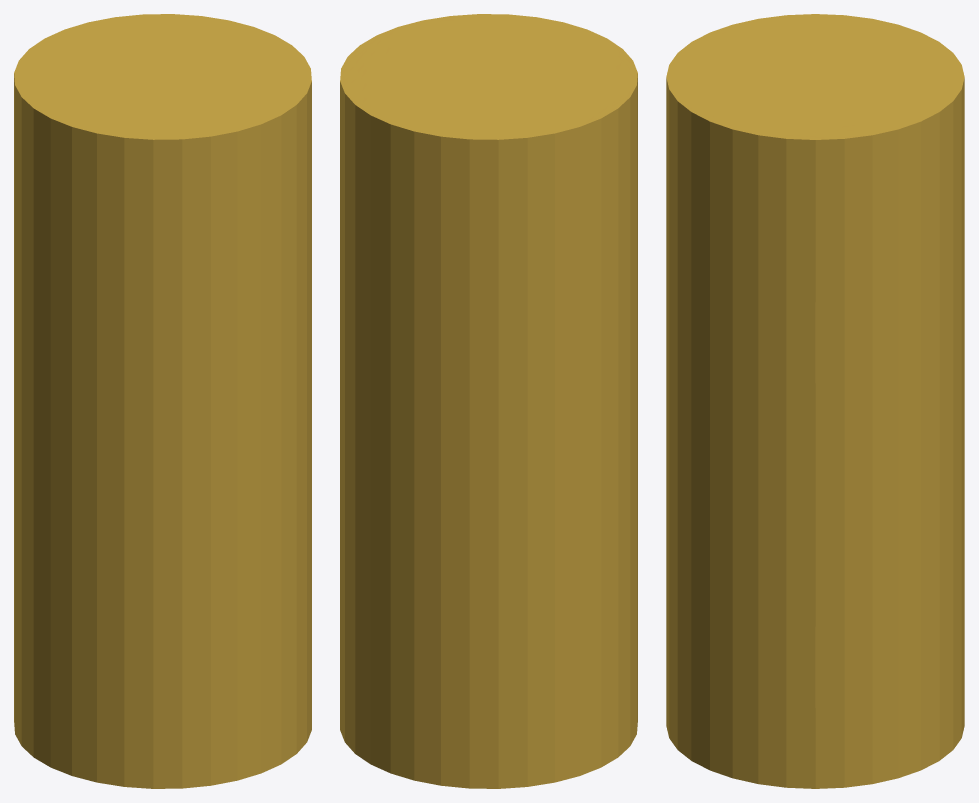
File: yellow_cylinder_010_024_s8.dae
The picture shows the model from 3 angles, left to right: view 1: azimuth 30°, elevation 25°; view 2: azimuth 150°, elevation 25°; view 3: azimuth 270°, elevation 25°; orthographic projection.
Parts seen in each view (by area): view 1: Cylinder; view 2: Cylinder; view 3: Cylinder.
Part boxes in pixels (left/top/right/bottom): Cylinder: left=14, top=14, right=311, bottom=788; Cylinder: left=340, top=14, right=637, bottom=788; Cylinder: left=666, top=14, right=964, bottom=788.
Bounding box in the file's own units: 0.1 × 0.1 × 0.24.
